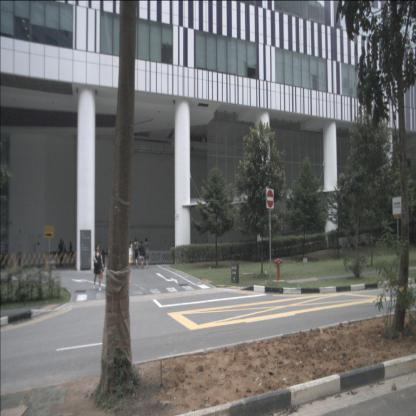human-pedestrian-adult: (93, 244, 104, 291), (128, 238, 134, 270), (139, 241, 145, 269), (145, 238, 150, 269), (134, 239, 139, 269), (61, 240, 66, 264), (59, 238, 63, 264), (70, 242, 72, 264)
